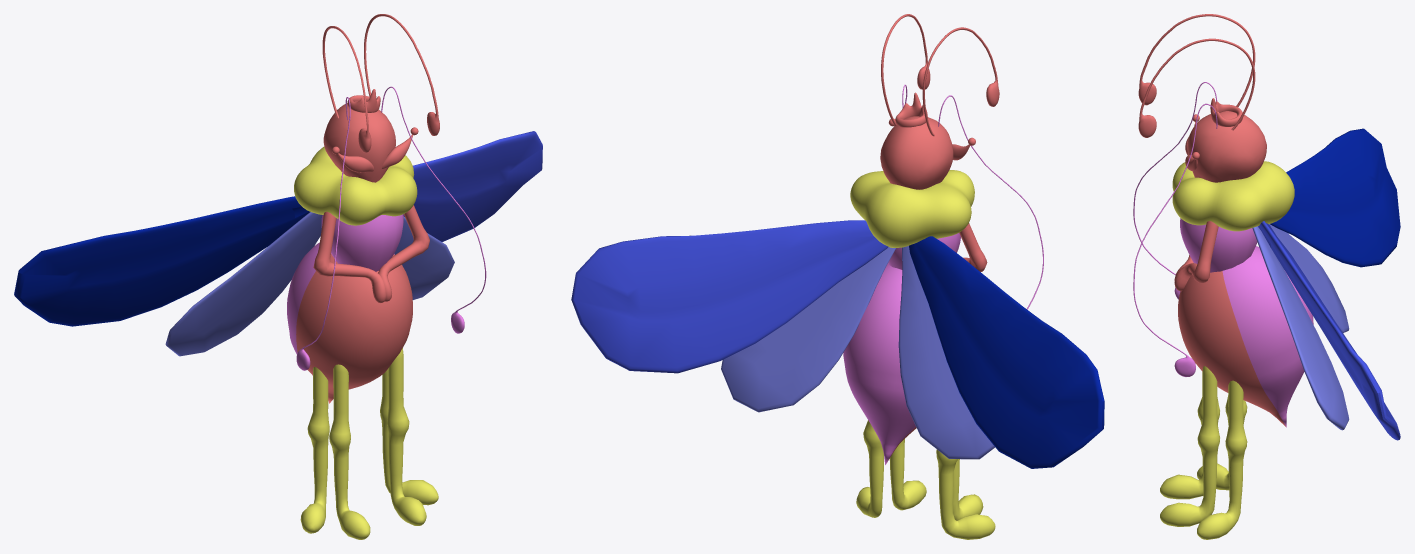
The model's file is QueenBeeUVMapped.fbx.
The picture shows the model from 3 angles, left to right: view 1: azimuth 30°, elevation 25°; view 2: azimuth 150°, elevation 25°; view 3: azimuth 270°, elevation 25°; orthographic projection. The views are drawn at different scales.
Visible parts, largest first — view 1: LeftBigWing, Bottom, LittleWings, RightBigWing, Fluff, Head, LeftFrontLeg, Torso, RightFrontLeg, LeftBackLeg, LeftArm, RightBackLeg (+6 smaller); view 2: RightBigWing, LeftBigWing, LittleWings, Bottom, Fluff, Head, LeftBackLeg, RightBackLeg, RightFrontLeg, LeftHornetSHort, LeftFrontLeg, RightHornetSHort (+2 smaller); view 3: Bottom, LeftBigWing, LittleWings, Fluff, Head, RightBigWing, RightFrontLeg, RightBackLeg, Torso, RightArm, LeftFrontLeg, RightHornetSHort (+5 smaller).
Boxes of the visible parts, left/top/right/bottom form: LeftBigWing: left=14, top=196, right=310, bottom=326; Bottom: left=287, top=242, right=412, bottom=403; LittleWings: left=165, top=212, right=454, bottom=356; RightBigWing: left=403, top=131, right=542, bottom=241; Fluff: left=294, top=147, right=417, bottom=225; Head: left=323, top=101, right=395, bottom=182; LeftFrontLeg: left=329, top=364, right=370, bottom=539; Torso: left=321, top=214, right=403, bottom=271; RightFrontLeg: left=387, top=348, right=426, bottom=525; LeftBackLeg: left=300, top=367, right=329, bottom=533; LeftArm: left=313, top=211, right=385, bottom=303; RightBackLeg: left=380, top=369, right=438, bottom=505; RightBigWing: left=571, top=220, right=888, bottom=373; LeftBigWing: left=909, top=236, right=1104, bottom=468; LittleWings: left=721, top=245, right=994, bottom=459; Bottom: left=843, top=264, right=916, bottom=464; Fluff: left=850, top=170, right=974, bottom=247; Head: left=880, top=116, right=953, bottom=189; LeftBackLeg: left=936, top=449, right=995, bottom=539; RightBackLeg: left=856, top=420, right=883, bottom=517; RightFrontLeg: left=889, top=439, right=926, bottom=510; LeftHornetSHort: left=922, top=27, right=999, bottom=136; LeftFrontLeg: left=953, top=459, right=983, bottom=520; RightHornetSHort: left=881, top=14, right=930, bottom=125; Bottom: left=1178, top=246, right=1313, bottom=427; LeftBigWing: left=1270, top=128, right=1400, bottom=267; LittleWings: left=1252, top=224, right=1349, bottom=430; Fluff: left=1172, top=161, right=1294, bottom=231; Head: left=1187, top=111, right=1266, bottom=182; RightBigWing: left=1258, top=221, right=1400, bottom=440; RightFrontLeg: left=1160, top=366, right=1219, bottom=526; RightBackLeg: left=1197, top=380, right=1247, bottom=539; Torso: left=1180, top=218, right=1257, bottom=272; RightArm: left=1174, top=221, right=1218, bottom=291; LeftFrontLeg: left=1160, top=397, right=1219, bottom=499; RightHornetSHort: left=1138, top=38, right=1255, bottom=137.
Size of the model in its own units: 13.06 by 11.71 by 5.85.
